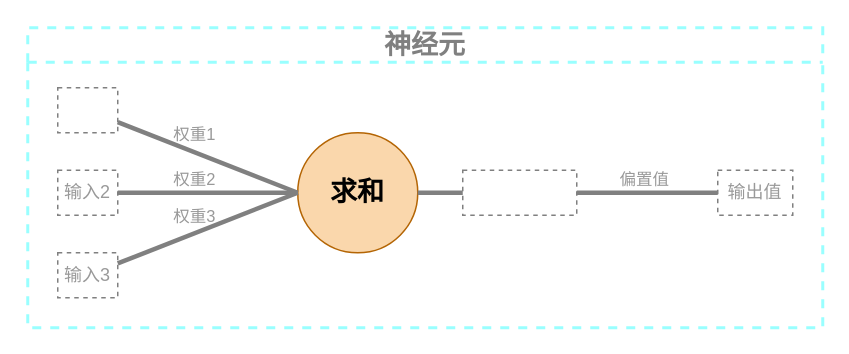
This 849x354 diagram has some shape labels left out. The centre of each missing label's shape, as x and y in pixels:
"激活函数" belongs at point 519,192.
"输入1" belongs at point 87,109.
